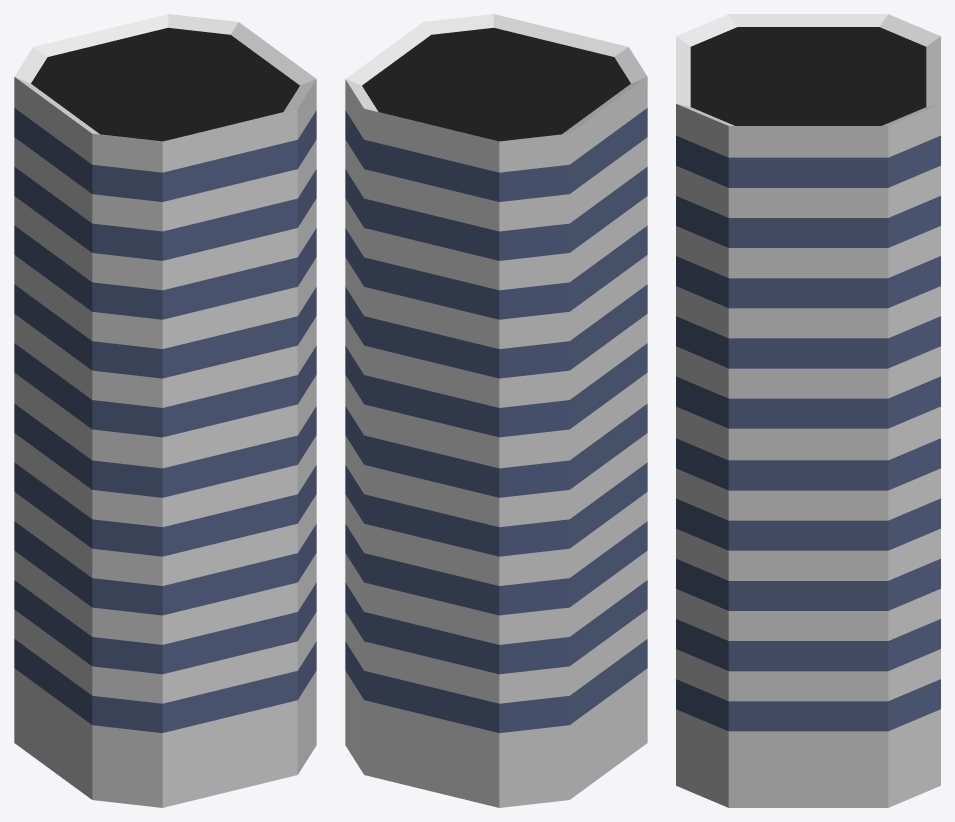
The model's file is Block2.fbx.
The picture shows the model from 3 angles, left to right: view 1: azimuth 30°, elevation 25°; view 2: azimuth 150°, elevation 25°; view 3: azimuth 270°, elevation 25°; orthographic projection. The views are drawn at different scales.
Visible parts, largest first — view 1: Cube.320; view 2: Cube.320; view 3: Cube.320.
Part boxes in pixels (bbox=[...]): Cube.320: bbox=[14, 14, 316, 807]; Cube.320: bbox=[345, 14, 647, 807]; Cube.320: bbox=[676, 14, 940, 807].
Bounding box in the file's own units: 2013 × 5712 × 2011.
